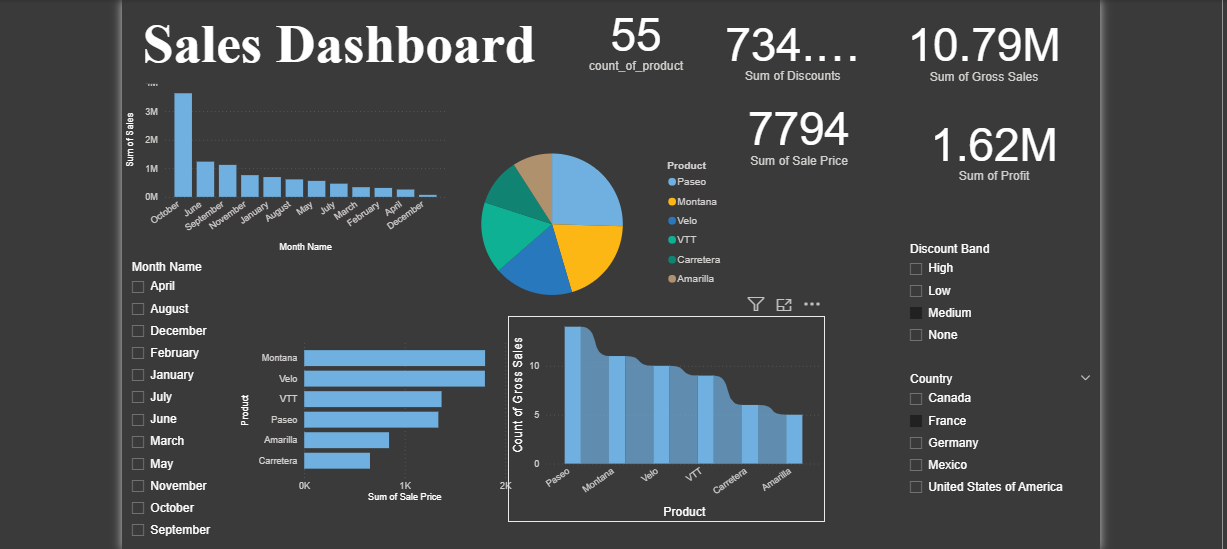

The page's visual inventory and layout, read from the dashboard file:
{"tool":"powerbi","page":{"name":"Page 1","canvas":[1280,720],"ordinal":0},"visuals":[{"type":"slicer","fields":{"Values":["financials.Discount Band"]},"box":[1018.5,311.7,155.1,158],"z":0},{"type":"slicer","fields":{"Values":["financials.Month Name"]},"box":[0,335.1,150.7,379],"z":1000},{"type":"slicer","fields":{"Values":["financials.Country"]},"box":[1018.5,481.5,262,181.5],"z":2000},{"type":"card","fields":{"Values":["Sum(financials.Sale Price)"]},"box":[780,109.8,212.2,125.9],"z":3000},{"type":"card","fields":{"Values":["Sum(financials.Profit)"]},"box":[1018.1,125.3,246.2,133.9],"z":4000},{"type":"card","fields":{"Values":["Sum(financials.Discounts)"]},"box":[780.5,0,195.8,123.8],"z":5000},{"type":"card","fields":{"Values":["Sum(financials.Gross Sales)"]},"box":[992.2,0,272.2,125.9],"z":6000},{"type":"barChart","fields":{"Category":["financials.Product"],"Y":["Sum(financials.Sale Price)"]},"box":[150.7,434.6,370.2,228.3],"z":7000},{"type":"columnChart","fields":{"Category":["financials.Month Name"],"Y":["Sum(financials. Sales)"]},"box":[0,93.7,428.8,241.5],"z":8000},{"type":"pieChart","fields":{"Y":["CountNonNull(financials.Discounts)"],"Category":["financials.Product"]},"box":[406.8,172.7,390.7,241.5],"z":9000},{"type":"ribbonChart","fields":{"Y":["CountNonNull(financials.Gross Sales)"],"Category":["financials.Product"]},"box":[504.9,414.1,415.6,269.3],"z":10000},{"type":"textbox","box":[21.6,11.5,535.7,97.9],"z":11000},{"type":"card","fields":{"Values":["financials.count_of_product"]},"box":[565.9,0,214.6,99.4],"z":12000}]}

Visuals, with their boxes on the page's 1280x720 design canvas (x1, y1, x2, y2). These are canvas units, not pixel positions in the 1227x549 screenshot, which may show the page scaled, cropped or inside an application window:
slicer - financials.Discount Band: box=[1018, 312, 1174, 470]
slicer - financials.Month Name: box=[0, 335, 151, 714]
slicer - financials.Country: box=[1018, 482, 1280, 663]
card - Sum(financials.Sale Price): box=[780, 110, 992, 236]
card - Sum(financials.Profit): box=[1018, 125, 1264, 259]
card - Sum(financials.Discounts): box=[780, 0, 976, 124]
card - Sum(financials.Gross Sales): box=[992, 0, 1264, 126]
barChart - financials.Product x Sum(financials.Sale Price): box=[151, 435, 521, 663]
columnChart - financials.Month Name x Sum(financials. Sales): box=[0, 94, 429, 335]
pieChart - CountNonNull(financials.Discounts) x financials.Product: box=[407, 173, 798, 414]
ribbonChart - CountNonNull(financials.Gross Sales) x financials.Product: box=[505, 414, 920, 683]
textbox: box=[22, 12, 557, 109]
card - financials.count_of_product: box=[566, 0, 780, 99]
